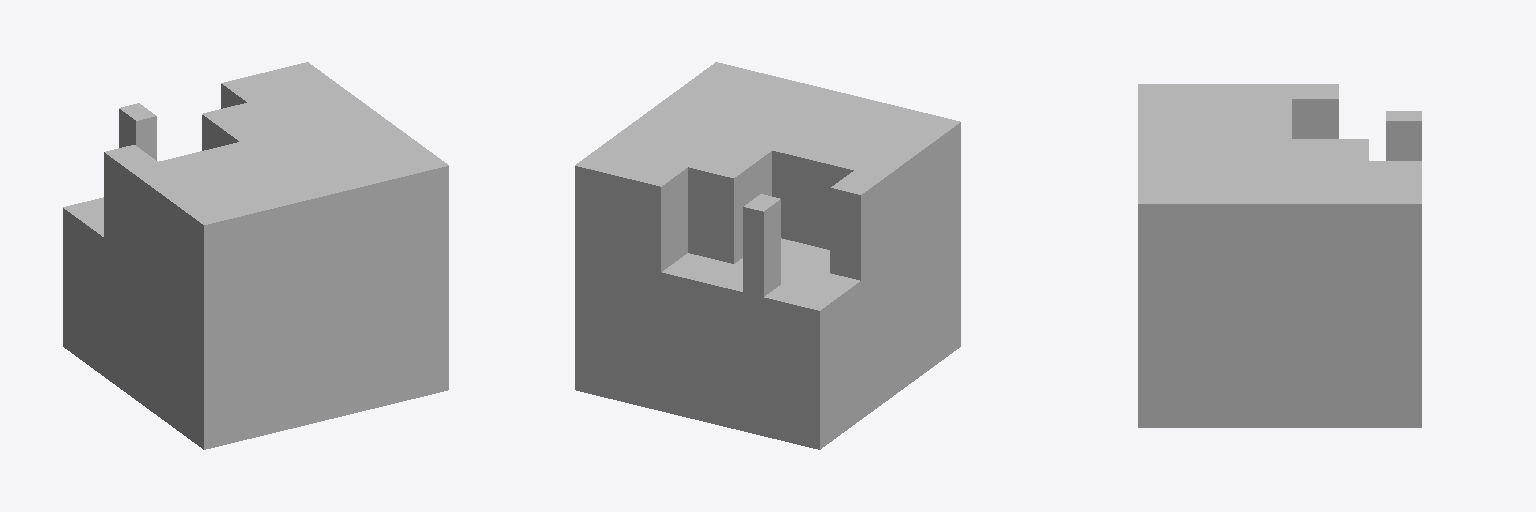
The model's file is oceanBottomInnerCorner-0.obj.
3 renders of one model, left to right at view 1: azimuth 30°, elevation 25°; view 2: azimuth 150°, elevation 25°; view 3: azimuth 270°, elevation 25°, orthographic.
Visible parts, largest first — view 1: object 1; view 2: object 1; view 3: object 1.
Part boxes in pixels (x1,y1,x2,y2): object 1: (63, 62, 448, 449); object 1: (575, 62, 960, 449); object 1: (1138, 84, 1421, 427).
Bounding box in the file's own units: 4.8 × 4.2 × 4.8.